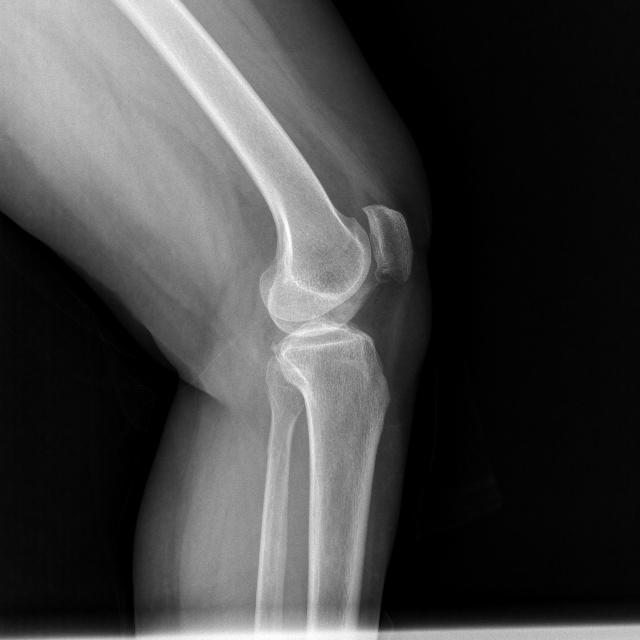Knee: (254, 199, 414, 398)
